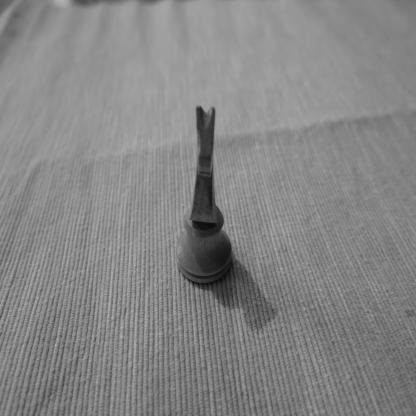white-knight: (174, 104, 232, 286)
